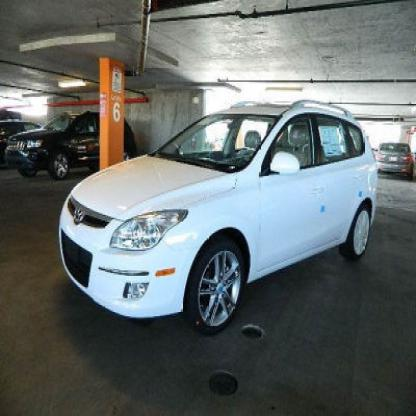Vehicle: (60, 101, 380, 341)
